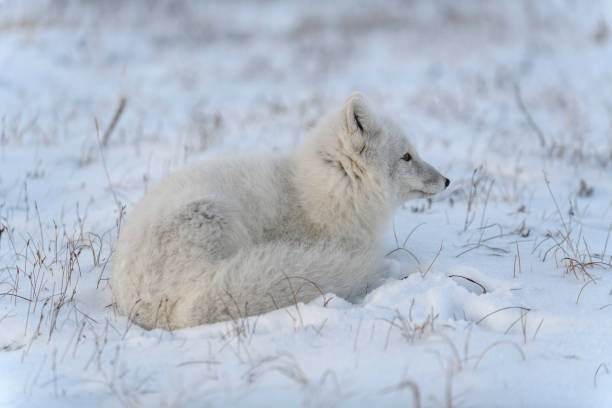arcticfox: (356, 118, 450, 217)
